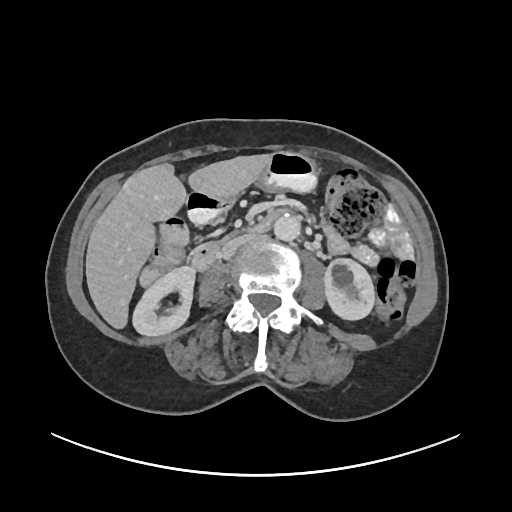Lesion: (328, 259, 356, 291)
